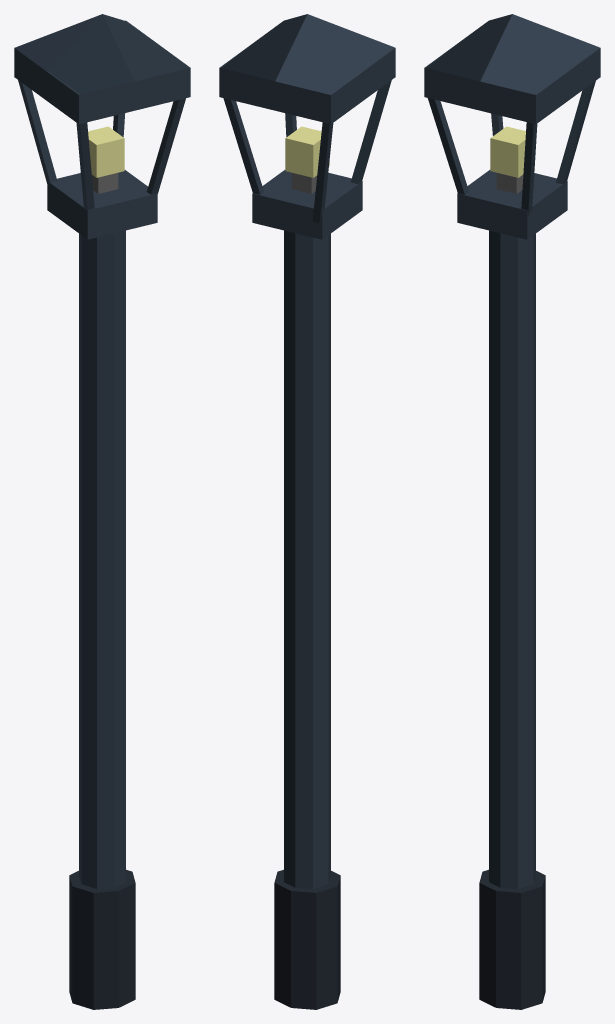
The model's file is StreetLight.gltf.
The picture shows the model from 3 angles, left to right: view 1: azimuth 30°, elevation 25°; view 2: azimuth 150°, elevation 25°; view 3: azimuth 330°, elevation 25°; orthographic projection.
Parts seen in each view (by area): view 1: Pole, Top, Base, LightBase, cuboid (×3), Bulb, socket; view 2: Pole, Top, Base, LightBase, cuboid (×3), Bulb, socket; view 3: Pole, Top, Base, LightBase, cuboid (×3), Bulb, socket.
Boxes of the visible parts, box(x1,y1,x2,y2) form: Pole: box(79, 230, 125, 888); Top: box(14, 14, 190, 124); Base: box(69, 869, 135, 1009); LightBase: box(47, 170, 157, 239); cuboid (×3): box(18, 80, 185, 210); Bulb: box(88, 126, 124, 177); socket: box(91, 173, 118, 193); Pole: box(284, 230, 330, 888); Top: box(219, 14, 395, 124); Base: box(274, 869, 340, 1009); LightBase: box(252, 170, 362, 239); cuboid (×3): box(223, 80, 391, 223); Bulb: box(285, 126, 329, 177); socket: box(291, 173, 317, 193); Pole: box(489, 230, 535, 888); Top: box(424, 14, 600, 124); Base: box(479, 869, 545, 1009); LightBase: box(457, 170, 567, 239); cuboid (×3): box(427, 81, 595, 214); Bulb: box(490, 126, 525, 177); socket: box(496, 173, 523, 193).
Size of the model in its own units: 0.5 by 4.2 by 0.5001.
2 materials, 2 textured.
